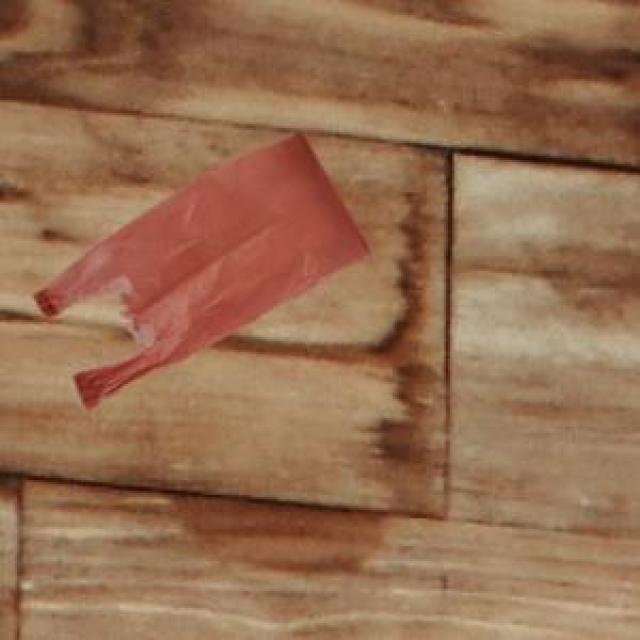waste: (35, 136, 369, 408)
